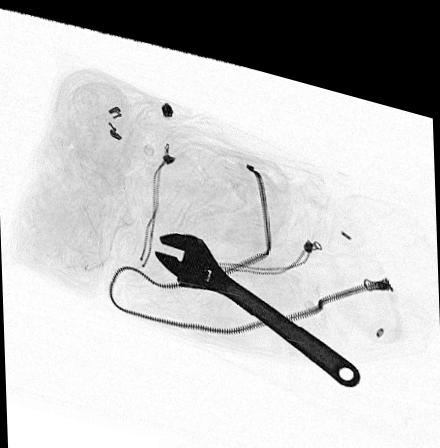Wrench: (147, 224, 362, 369)
